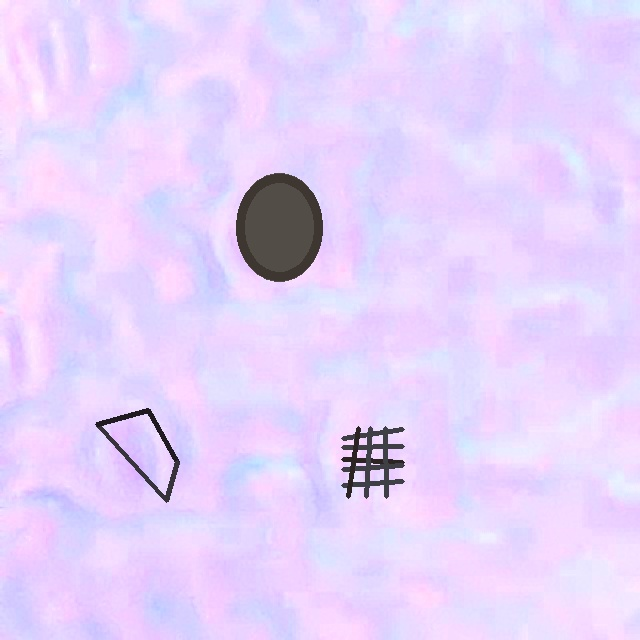open: (236, 172, 322, 281), (95, 408, 179, 502), (341, 426, 404, 498)
